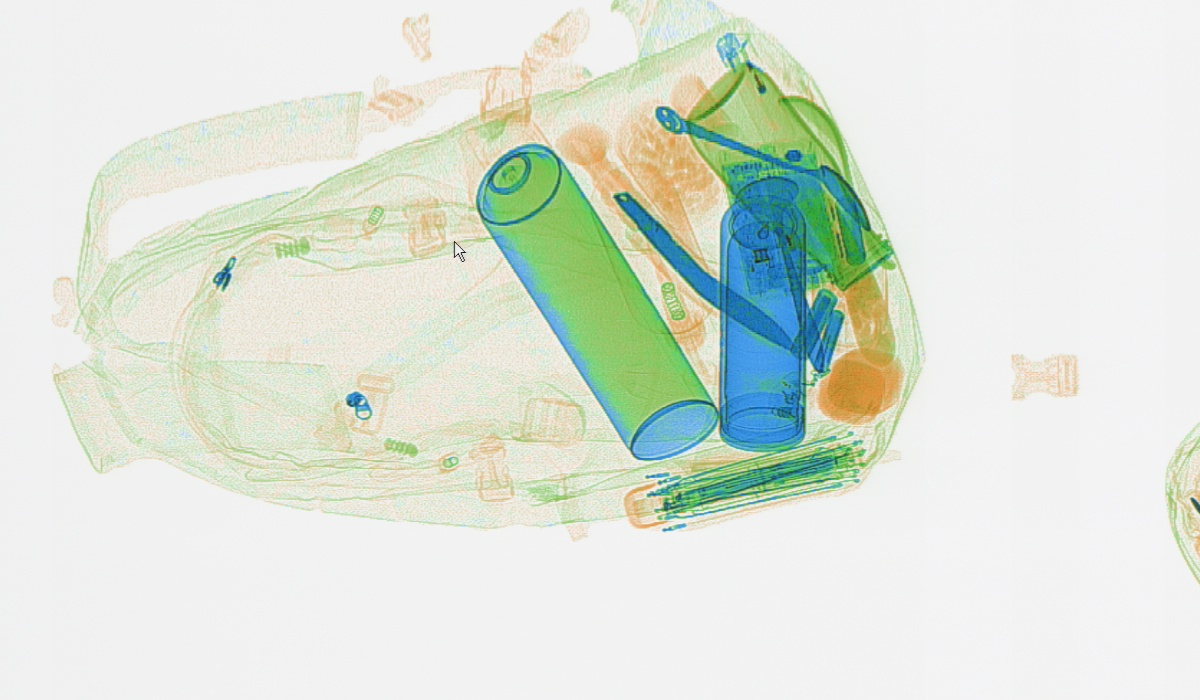knife: (555, 119, 806, 363)
lighter: (708, 22, 795, 151)
pressure: (465, 105, 726, 462)
